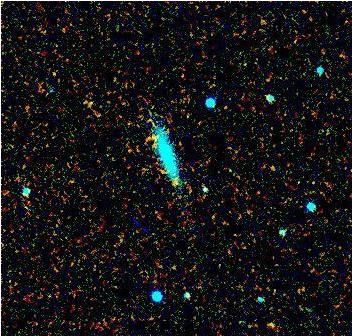star: (159, 253, 189, 283)
